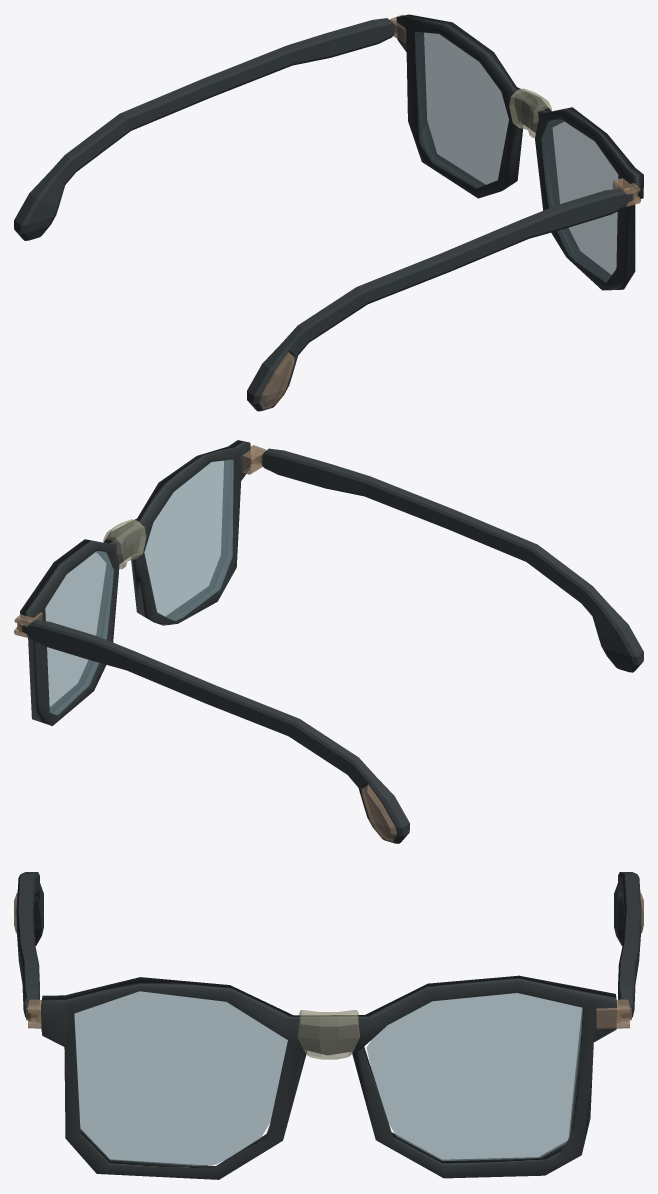
The model's file is sun glass_02.fbx.
3 renders of one model, top to bottom at view 1: azimuth 30°, elevation 25°; view 2: azimuth 150°, elevation 25°; view 3: azimuth 270°, elevation 25°, orthographic. The views are drawn at different scales.
Visible parts, largest first — view 1: Cube, Cube.003, Cylinder.003, Cylinder, Cube.004, Cube.001; view 2: Cube, Cylinder.003, Cylinder, Cube.004, Cube.003, Cube.001; view 3: Cube.004, Cube.003, Cube, Cylinder, Cylinder.003, Cube.001, Cylinder.002.
Boxes of the visible parts, x1,y1,x2,y2 form: Cube: [396, 14, 643, 290]; Cube.003: [415, 31, 508, 188]; Cylinder.003: [14, 18, 395, 240]; Cylinder: [247, 188, 633, 411]; Cube.004: [541, 119, 618, 282]; Cube.001: [509, 88, 551, 138]; Cube: [20, 440, 250, 725]; Cylinder.003: [21, 620, 409, 843]; Cylinder: [260, 448, 643, 672]; Cube.004: [144, 459, 233, 620]; Cube.003: [45, 551, 113, 715]; Cube.001: [103, 519, 146, 569]; Cube.004: [74, 991, 287, 1165]; Cube.003: [366, 993, 582, 1160]; Cube: [41, 975, 616, 1179]; Cylinder: [14, 872, 43, 1018]; Cylinder.003: [614, 872, 643, 1018]; Cube.001: [298, 1010, 359, 1059]; Cylinder.002: [596, 999, 629, 1029].
Bounding box in the file's own units: 188 × 67.54 × 196.
